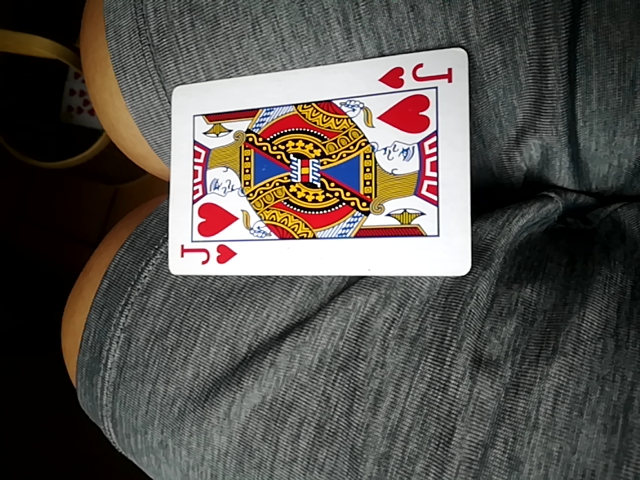hx j: (165, 48, 469, 278)
